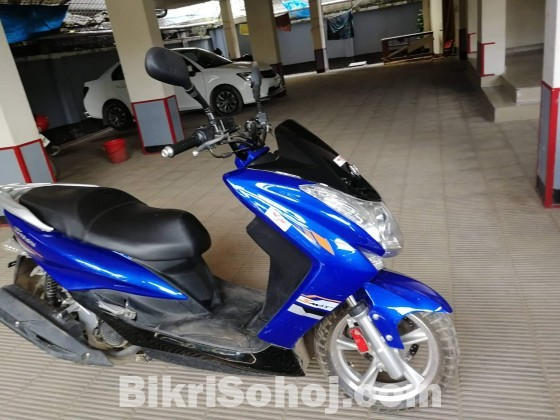car: (79, 46, 289, 131)
scooter: (1, 45, 463, 415)
